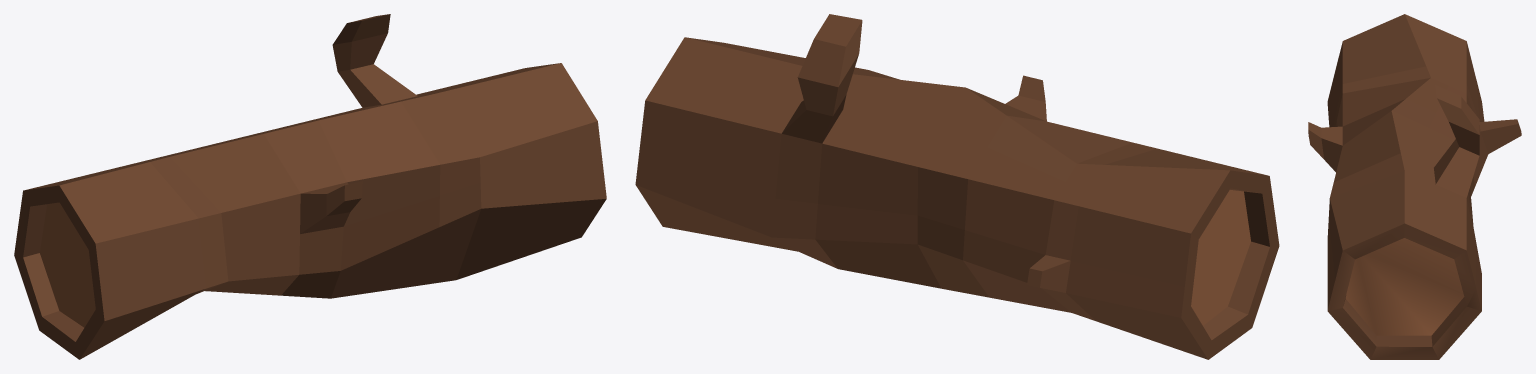
Rendered from Log_5_Brown.fbx.
3 renders of one model, left to right at view 1: azimuth 30°, elevation 25°; view 2: azimuth 150°, elevation 25°; view 3: azimuth 270°, elevation 25°, orthographic. The views are drawn at different scales.
Parts seen in each view (by area): view 1: Log_5_Brown_Part_1, Log_5_Brown_Part_2; view 2: Log_5_Brown_Part_1, Log_5_Brown_Part_2; view 3: Log_5_Brown_Part_1, Log_5_Brown_Part_2.
Part boxes in pixels (x1,y1,x2,y2): Log_5_Brown_Part_1: (14, 63, 606, 359); Log_5_Brown_Part_2: (300, 14, 417, 233); Log_5_Brown_Part_1: (635, 37, 1279, 359); Log_5_Brown_Part_2: (782, 14, 1070, 292); Log_5_Brown_Part_1: (1327, 14, 1488, 359); Log_5_Brown_Part_2: (1308, 85, 1521, 197).
Bounding box in the file's own units: 250 × 117 × 108.
